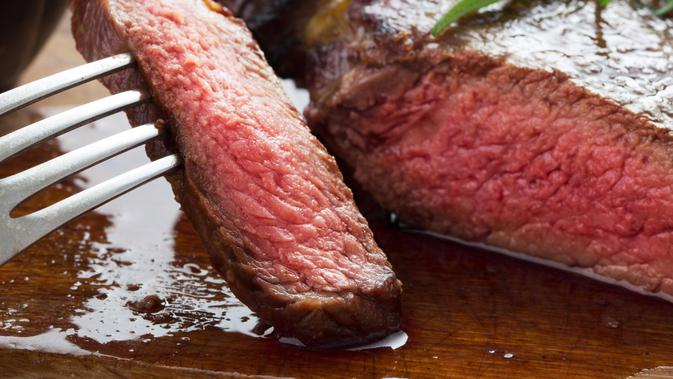steak: (1, 1, 670, 379)
